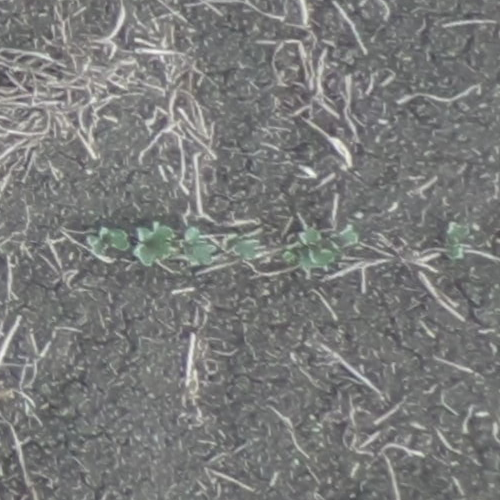isolated: (285, 225, 357, 268), (134, 226, 175, 266), (90, 228, 130, 257), (183, 227, 214, 264), (445, 222, 470, 259), (238, 243, 255, 262)
